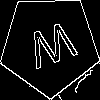W: (25, 20, 82, 79)
